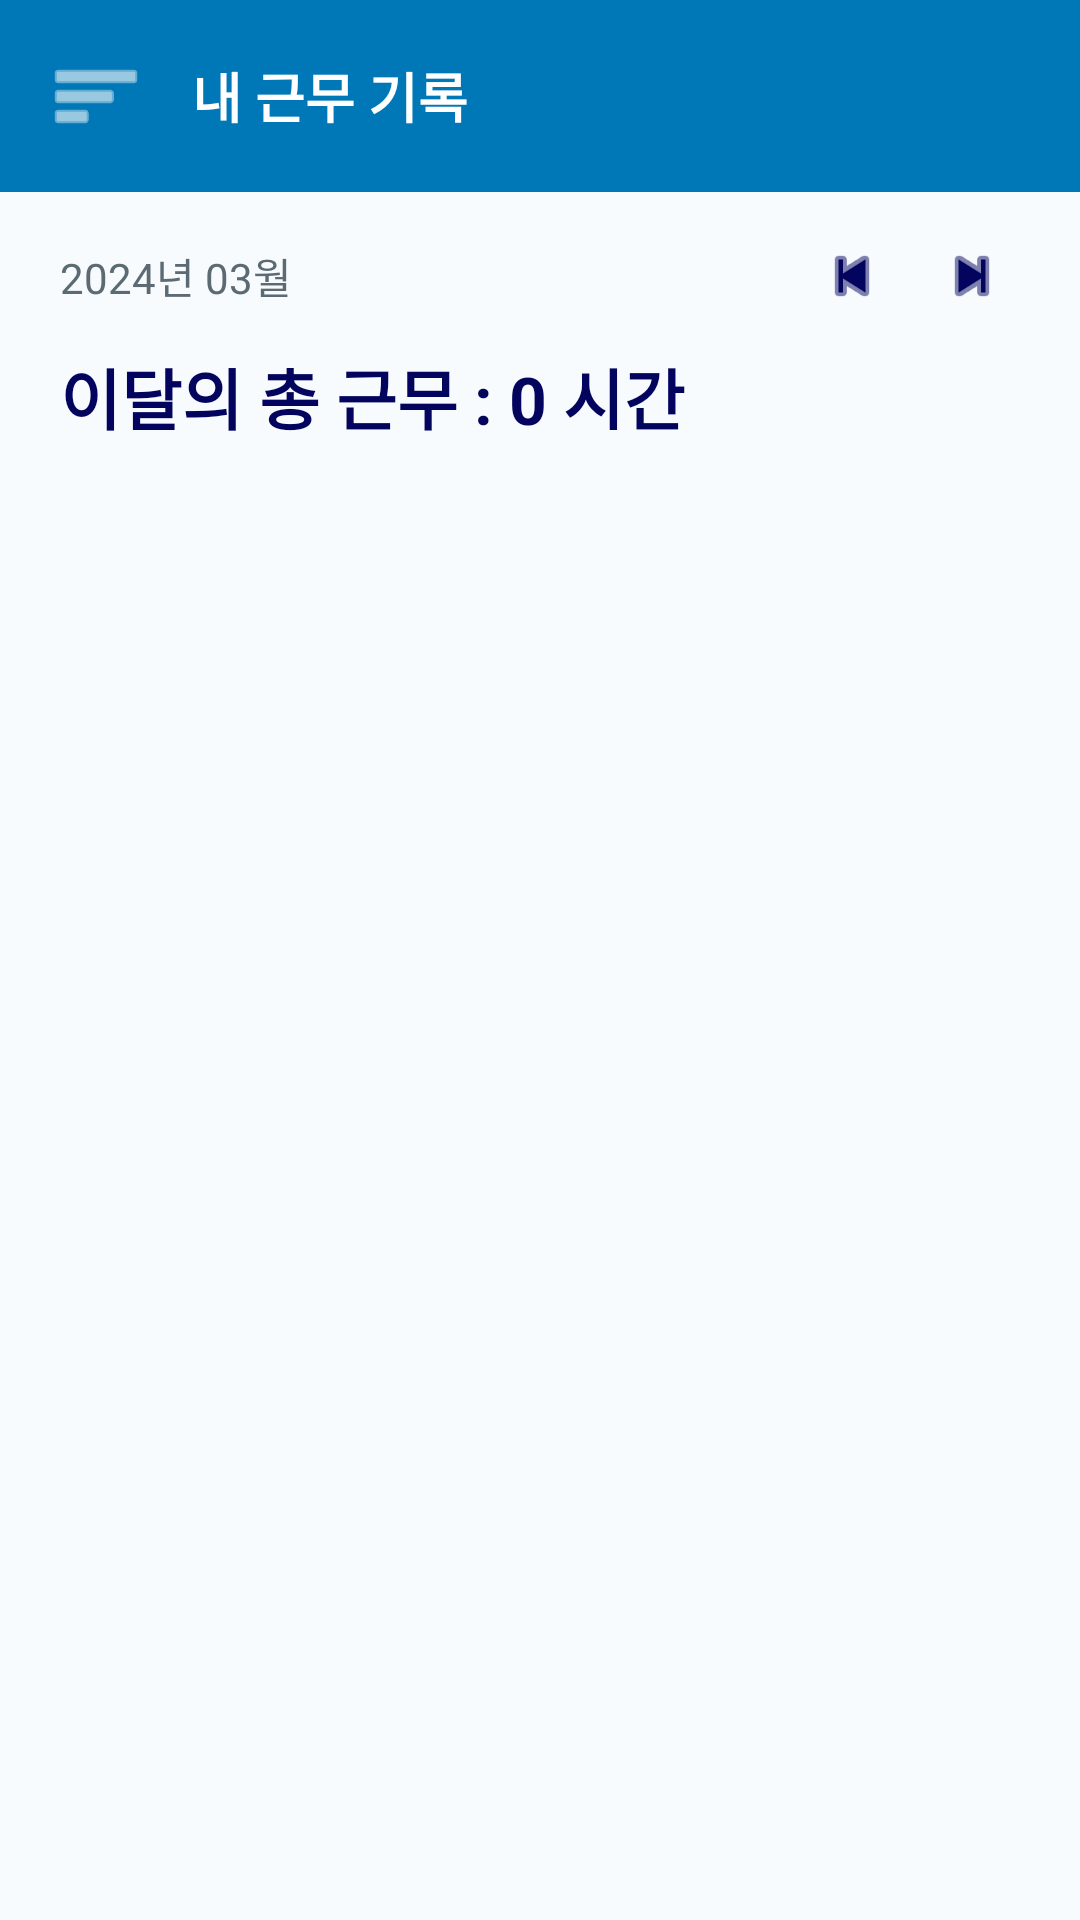

Screen size 1080w x 1920h. Icon name, then its center in pixels as (x,y):
next: (972,276)
previous: (852,276)
메뉴: (96,96)
